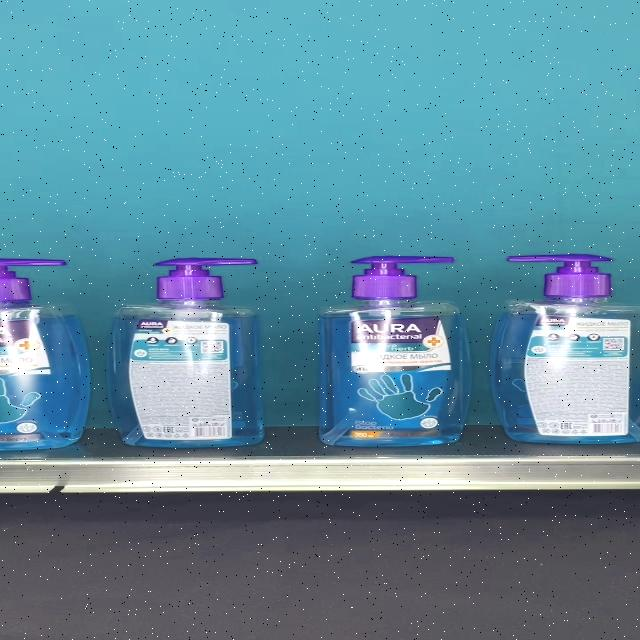Bottle: (106, 258, 266, 447), (316, 257, 472, 447), (492, 255, 640, 445)
Cap: (350, 257, 457, 300), (508, 255, 614, 298), (154, 258, 256, 300)
